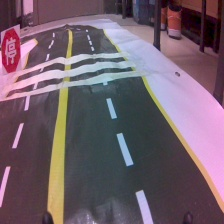stop: (1, 25, 23, 76)
